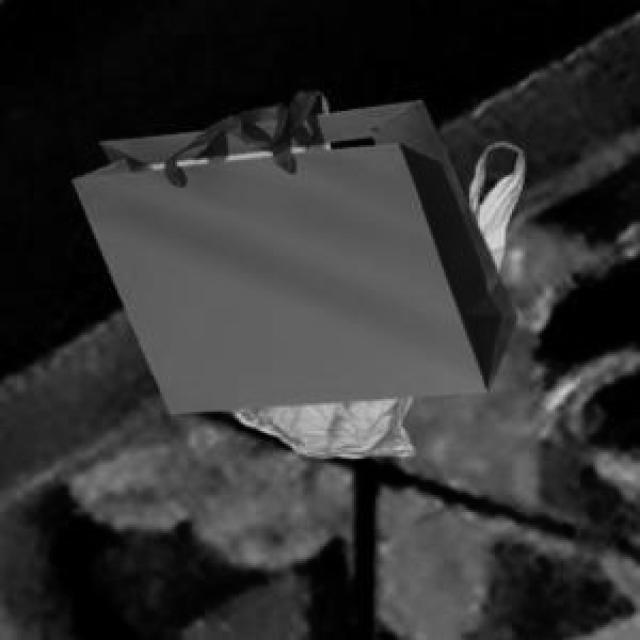paper: (68, 88, 512, 410)
